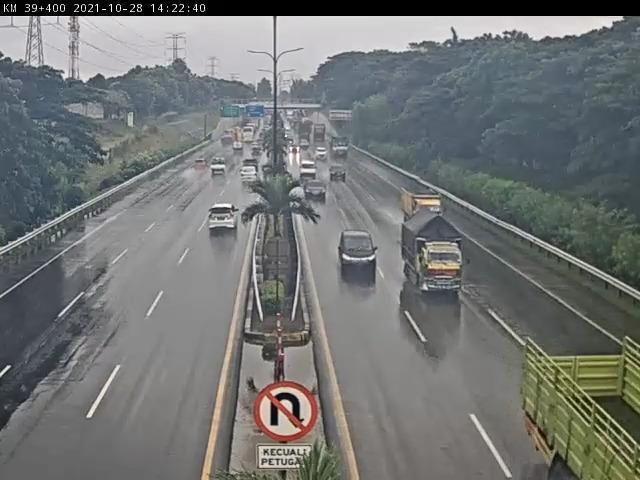car: (339, 230, 380, 276), (205, 201, 239, 233), (304, 176, 327, 199), (300, 159, 319, 180), (241, 167, 262, 184), (208, 159, 227, 176), (329, 163, 347, 179), (242, 160, 261, 175), (194, 159, 209, 173)
truck: (403, 211, 465, 296), (399, 182, 445, 221)
